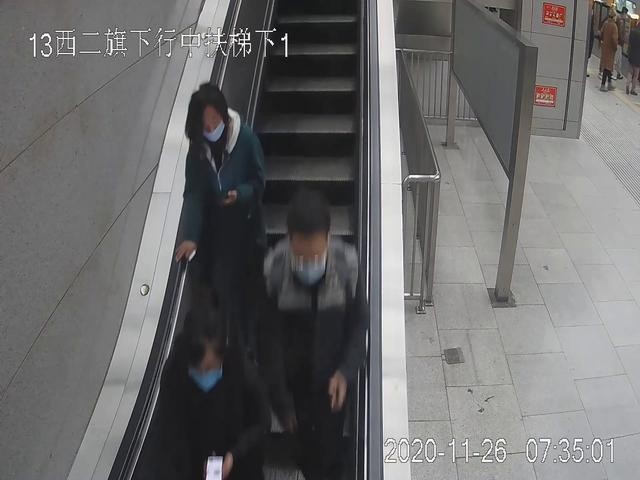person: (265, 193, 364, 480), (175, 81, 270, 359), (162, 307, 264, 480), (597, 10, 622, 93)
